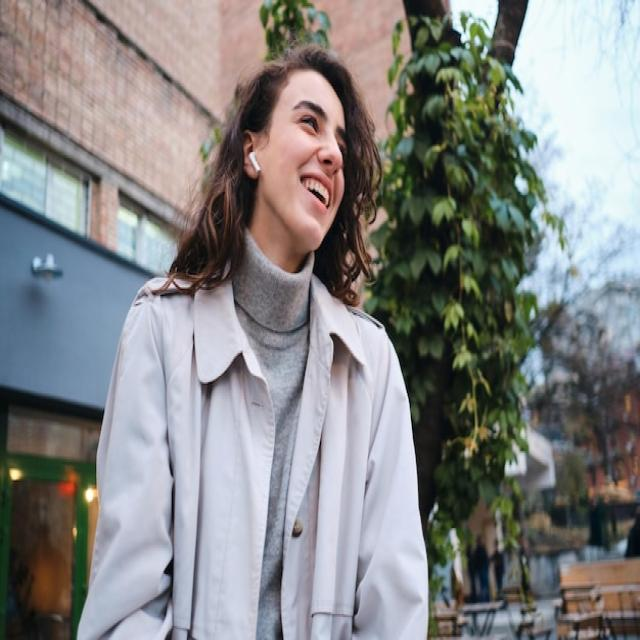airpods: (248, 148, 262, 178)
